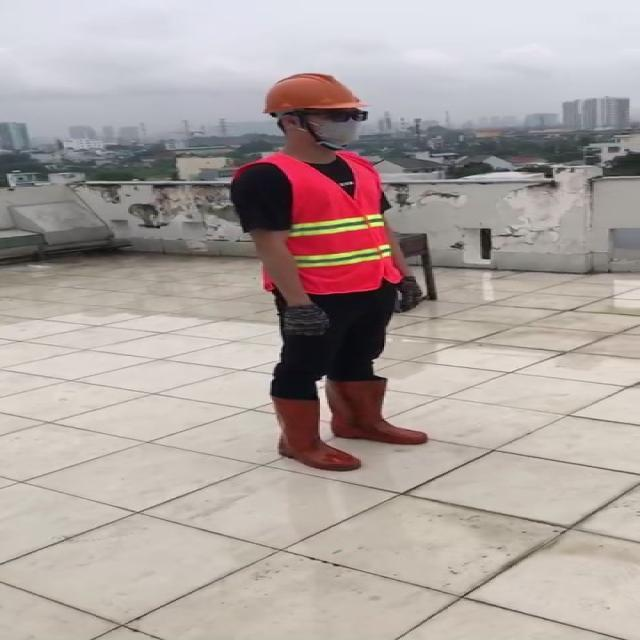boots: (326, 378, 454, 443), (256, 393, 361, 472)
